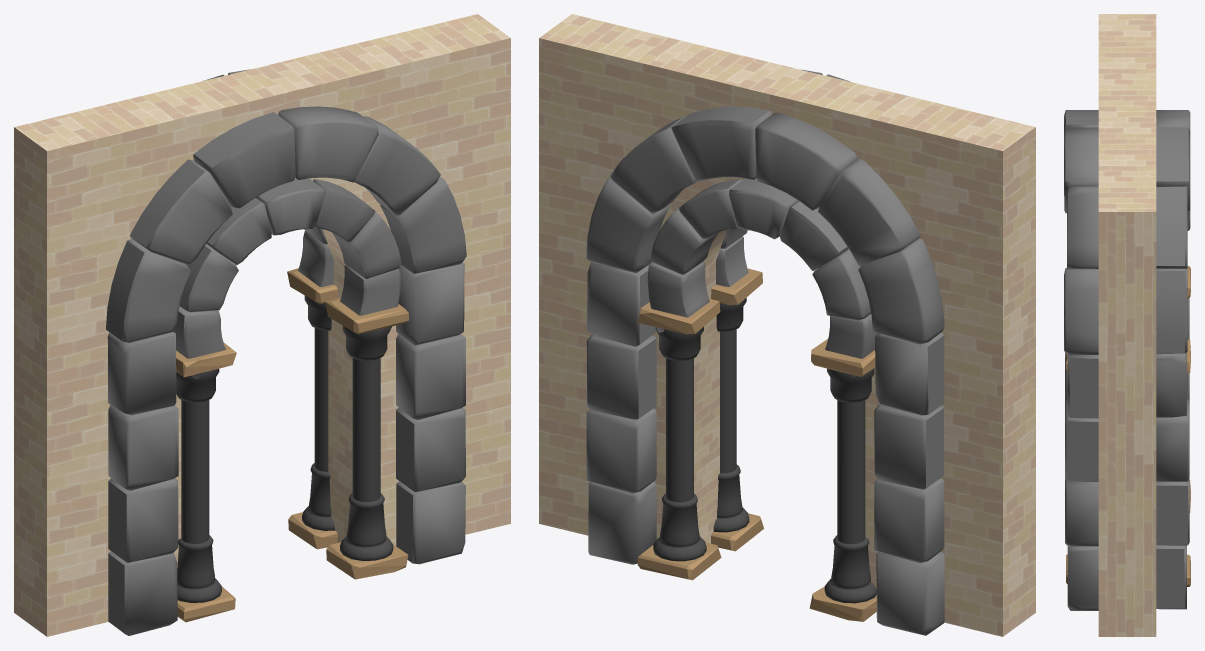
File: SM_wall_arch_03.fbx
The picture shows the model from 3 angles, left to right: view 1: azimuth 30°, elevation 25°; view 2: azimuth 150°, elevation 25°; view 3: azimuth 270°, elevation 25°; orthographic projection. The views are drawn at different scales.
Visible parts, largest first — view 1: Object32995; view 2: Object32995; view 3: Object32995.
Boxes of the visible parts, left/top/right/bottom form: Object32995: left=14, top=14, right=510, bottom=636; Object32995: left=539, top=14, right=1035, bottom=636; Object32995: left=1064, top=14, right=1190, bottom=636.
Size of the model in its own units: 170 by 171 by 45.97.
